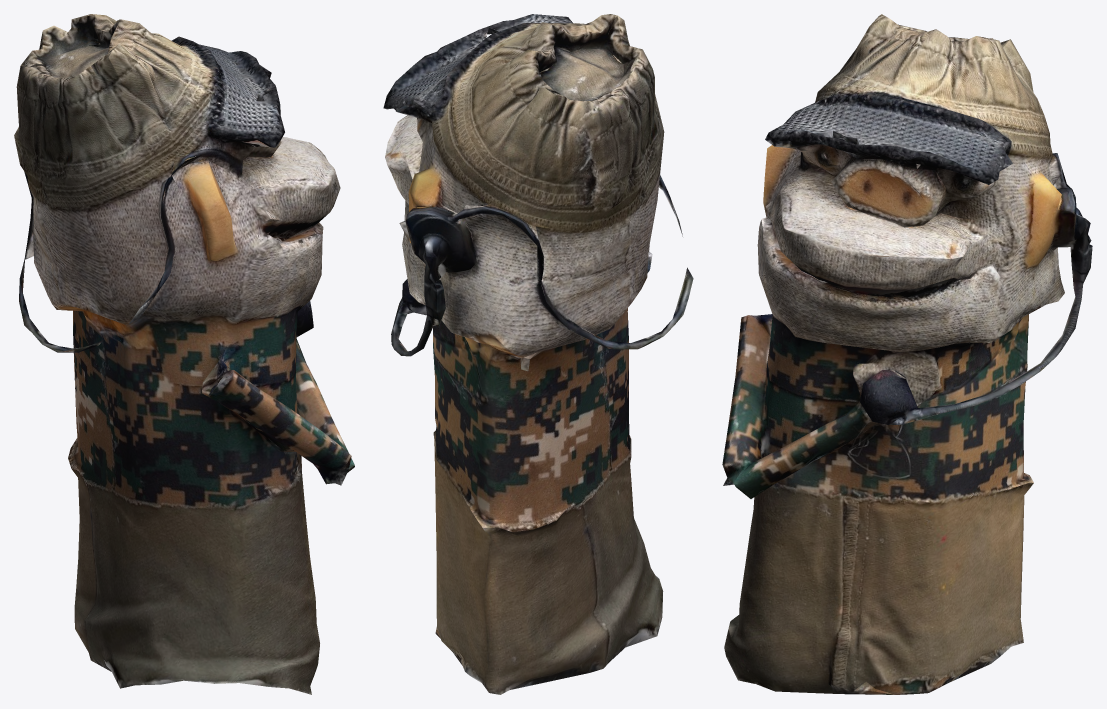
Rendered from democracio-v2.glb.
3 renders of one model, left to right at view 1: azimuth 30°, elevation 25°; view 2: azimuth 150°, elevation 25°; view 3: azimuth 270°, elevation 25°, orthographic. The views are drawn at different scales.
Size of the model in its own units: 0.1484 by 0.3358 by 0.1846.
Materials: 1 (1 with a texture image).
